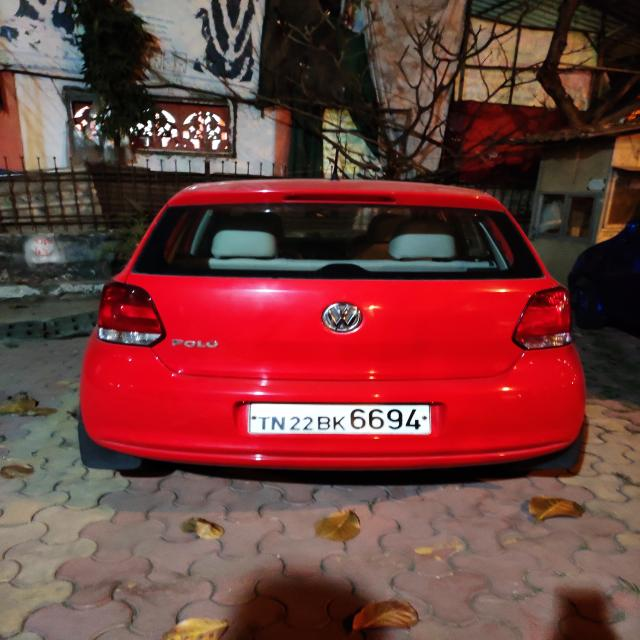Number-Plate: (250, 400, 435, 437)
